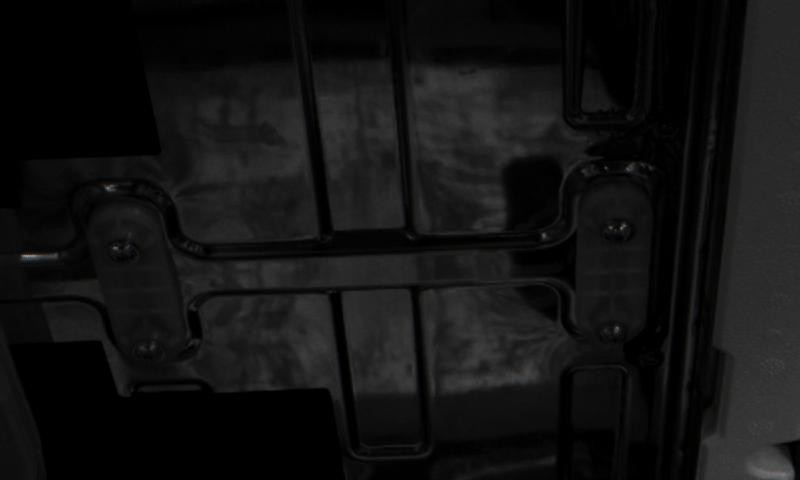vida-ok: (598, 212, 642, 257), (105, 233, 145, 278), (125, 332, 167, 372), (596, 313, 636, 352)
